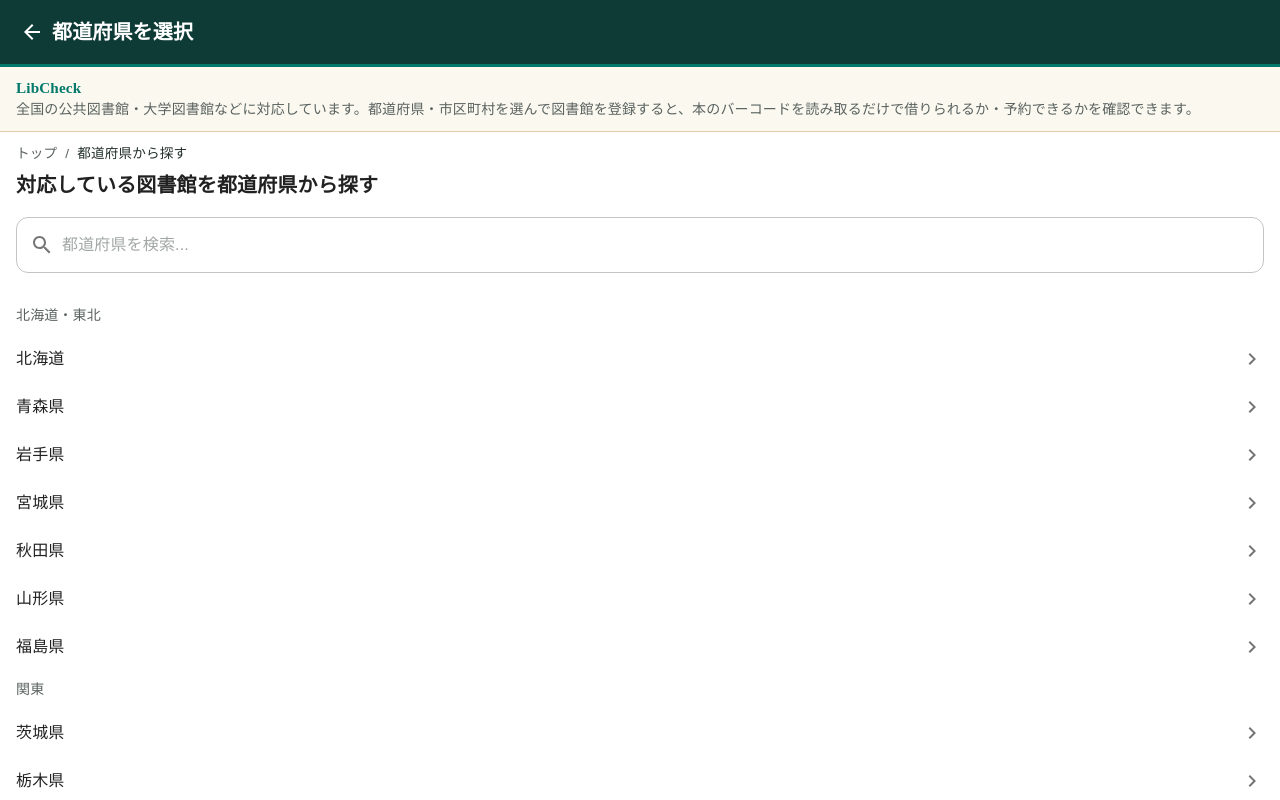
PrefectureSelectionPage › filters prefectures by search text
Type "東京" into the field at [663, 245], box 62,217 -> 1264,273
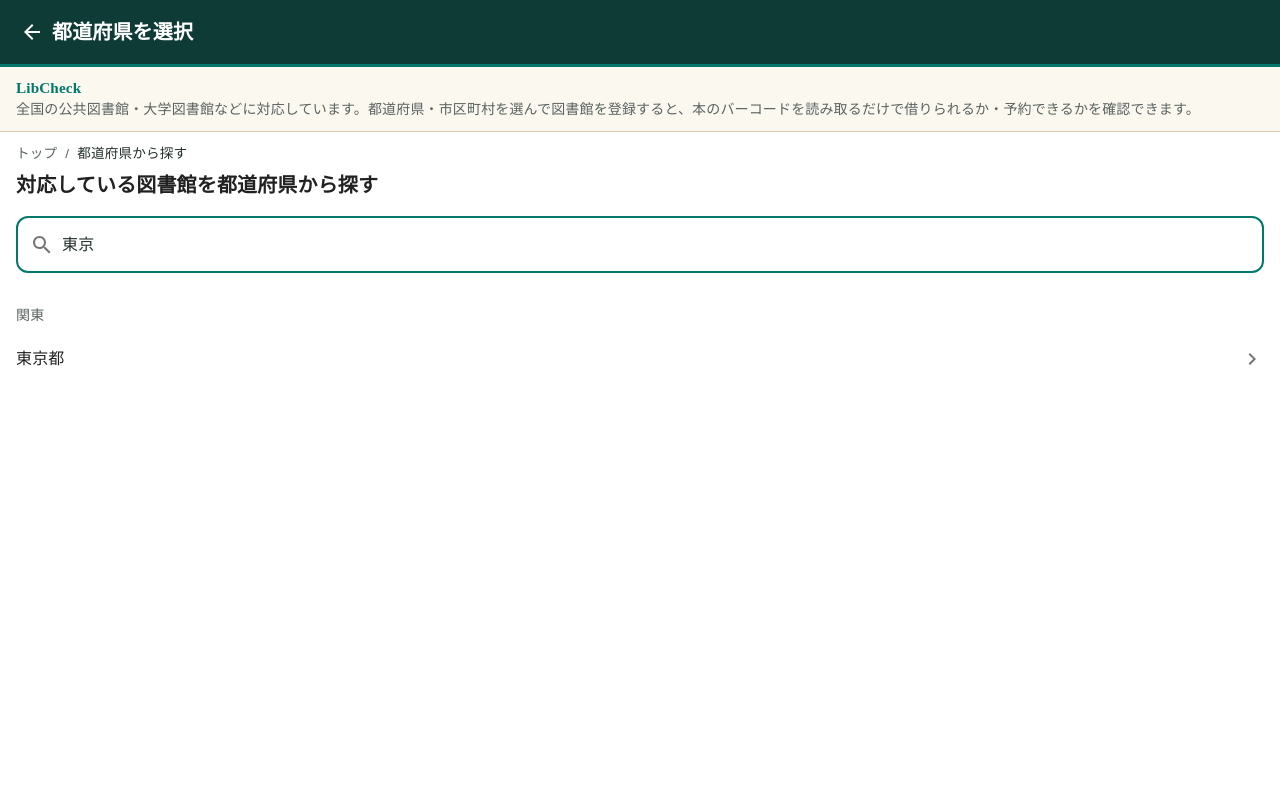
Expected: the text "東京都" is shown, 16,350 -> 64,367
Expected: the heading "北海道" is gone
